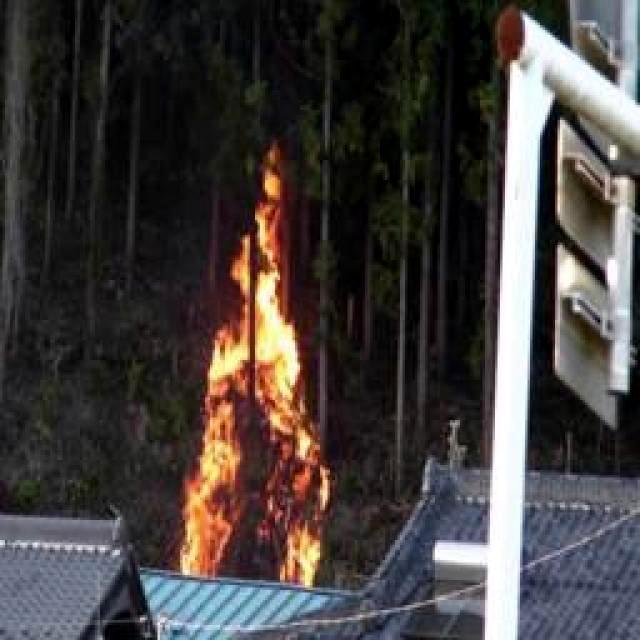fire: (182, 200, 334, 586)
